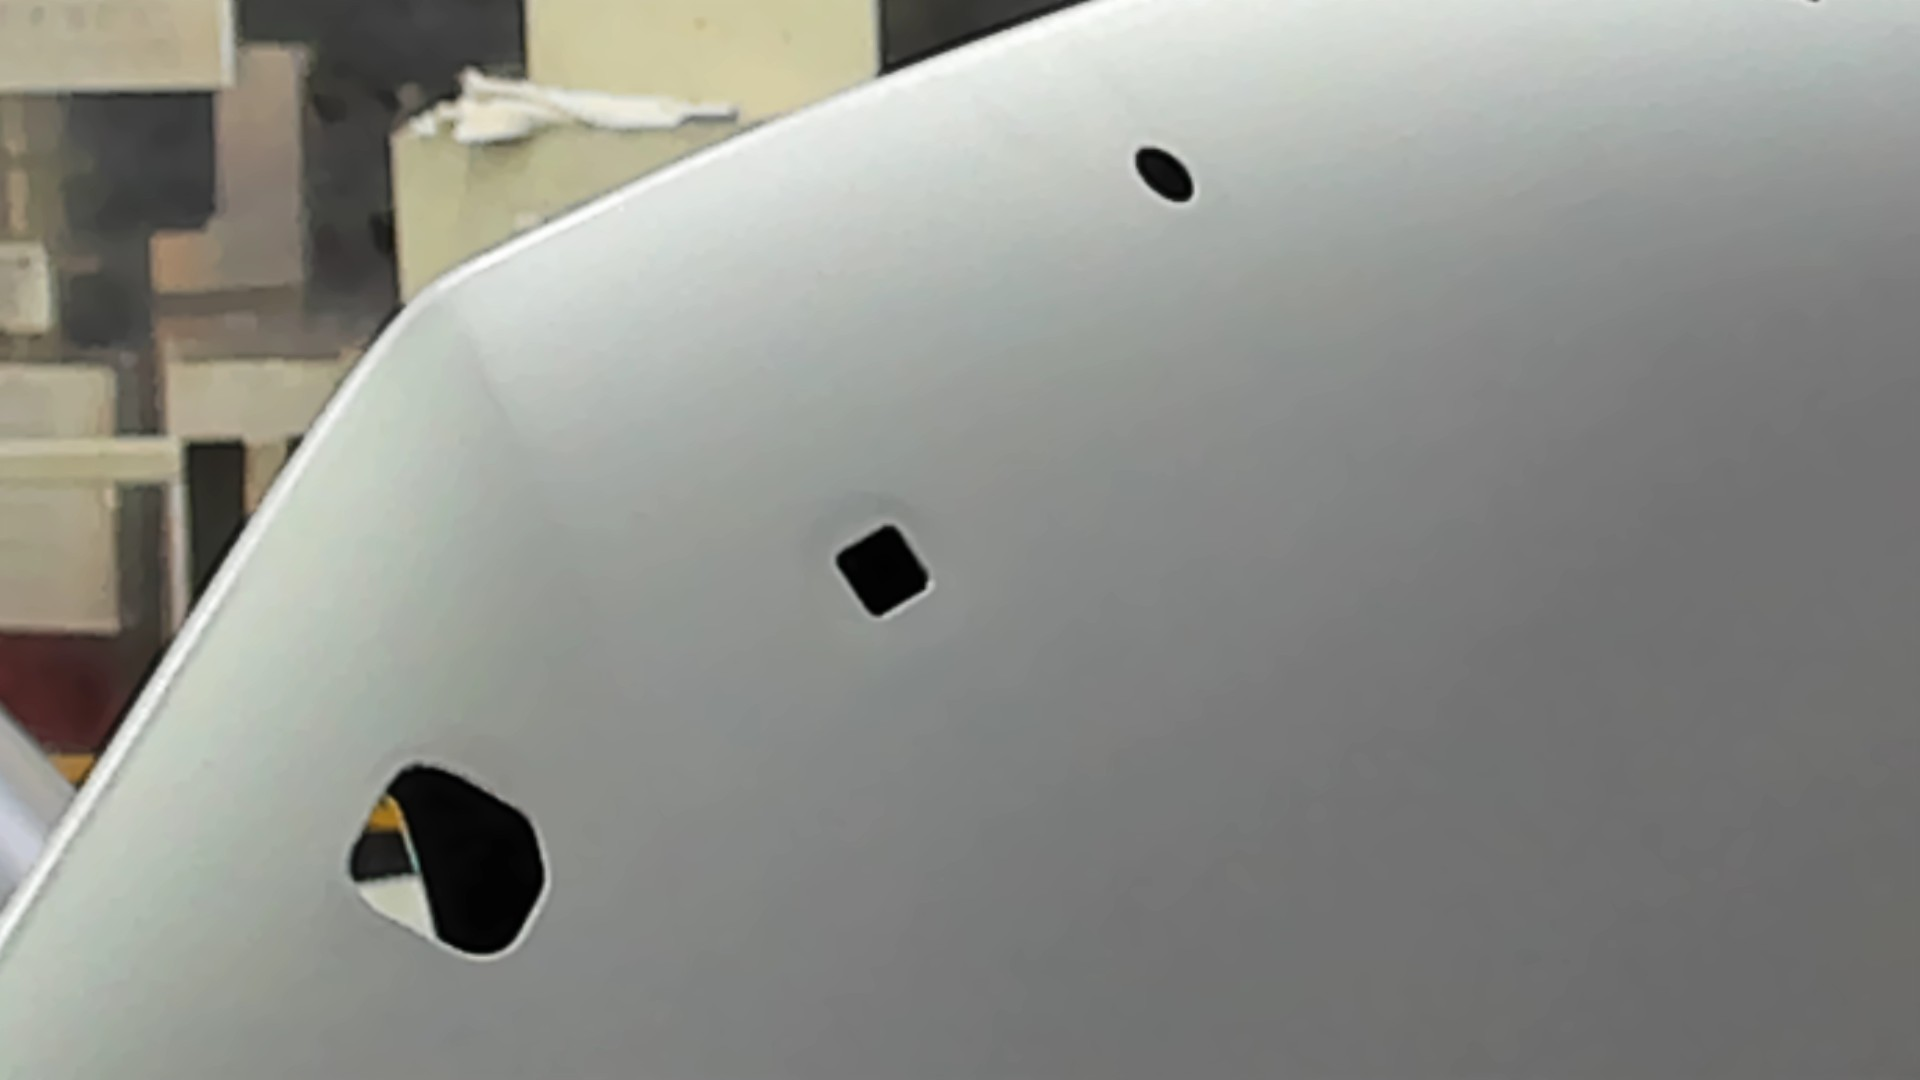chico: (1131, 144, 1201, 208)
grande: (332, 761, 560, 967)
mediano: (825, 517, 943, 628)
